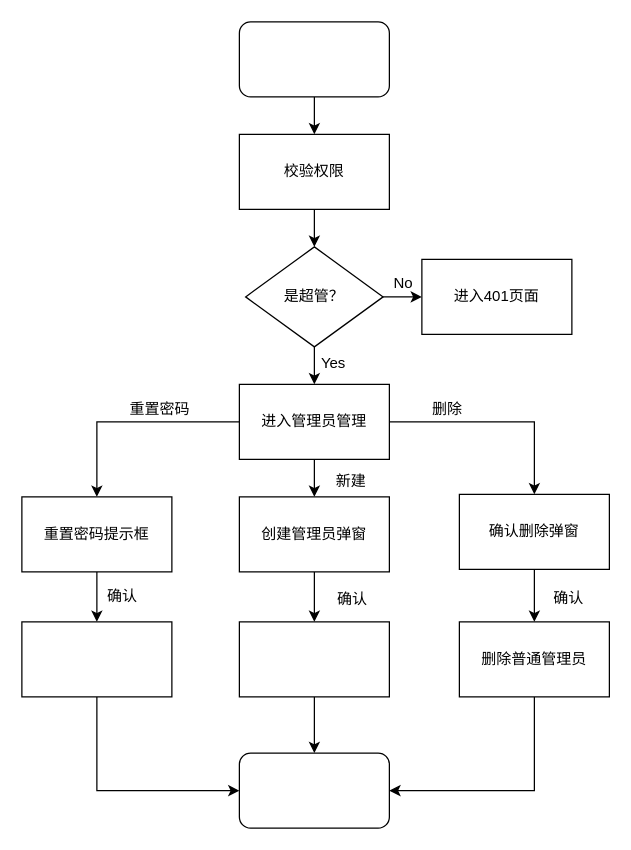
Image size: 631x850. Some labels were removed from this diagram. The shapes that lost their labels are listed below. From the top down, each one's centre as x and y in pixels, then its label:
the point at 313,59: 开始
the point at 96,659: 密码重置为111111
the point at 313,659: 表单校验 创建普通管理员
the point at 313,790: 结束
